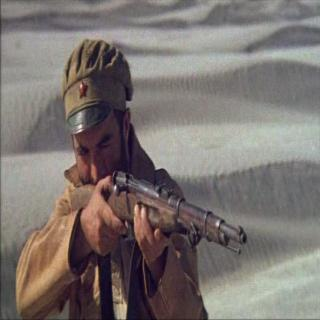gun: (56, 149, 250, 268)
